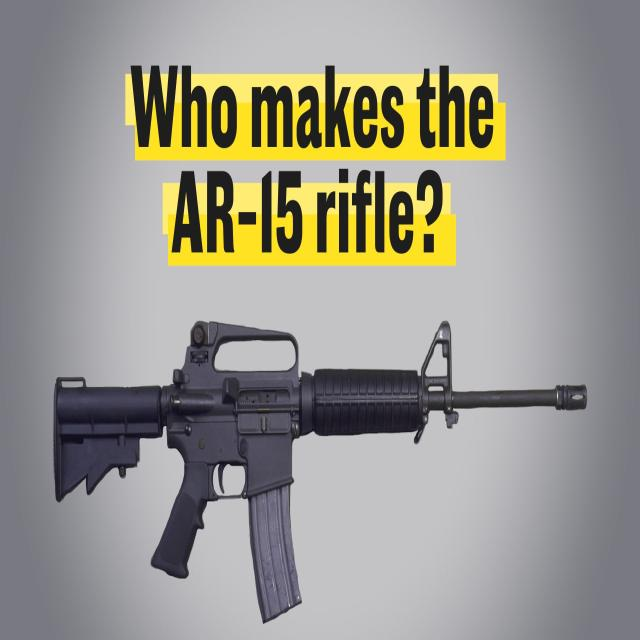Weapon: (35, 313, 612, 627)
